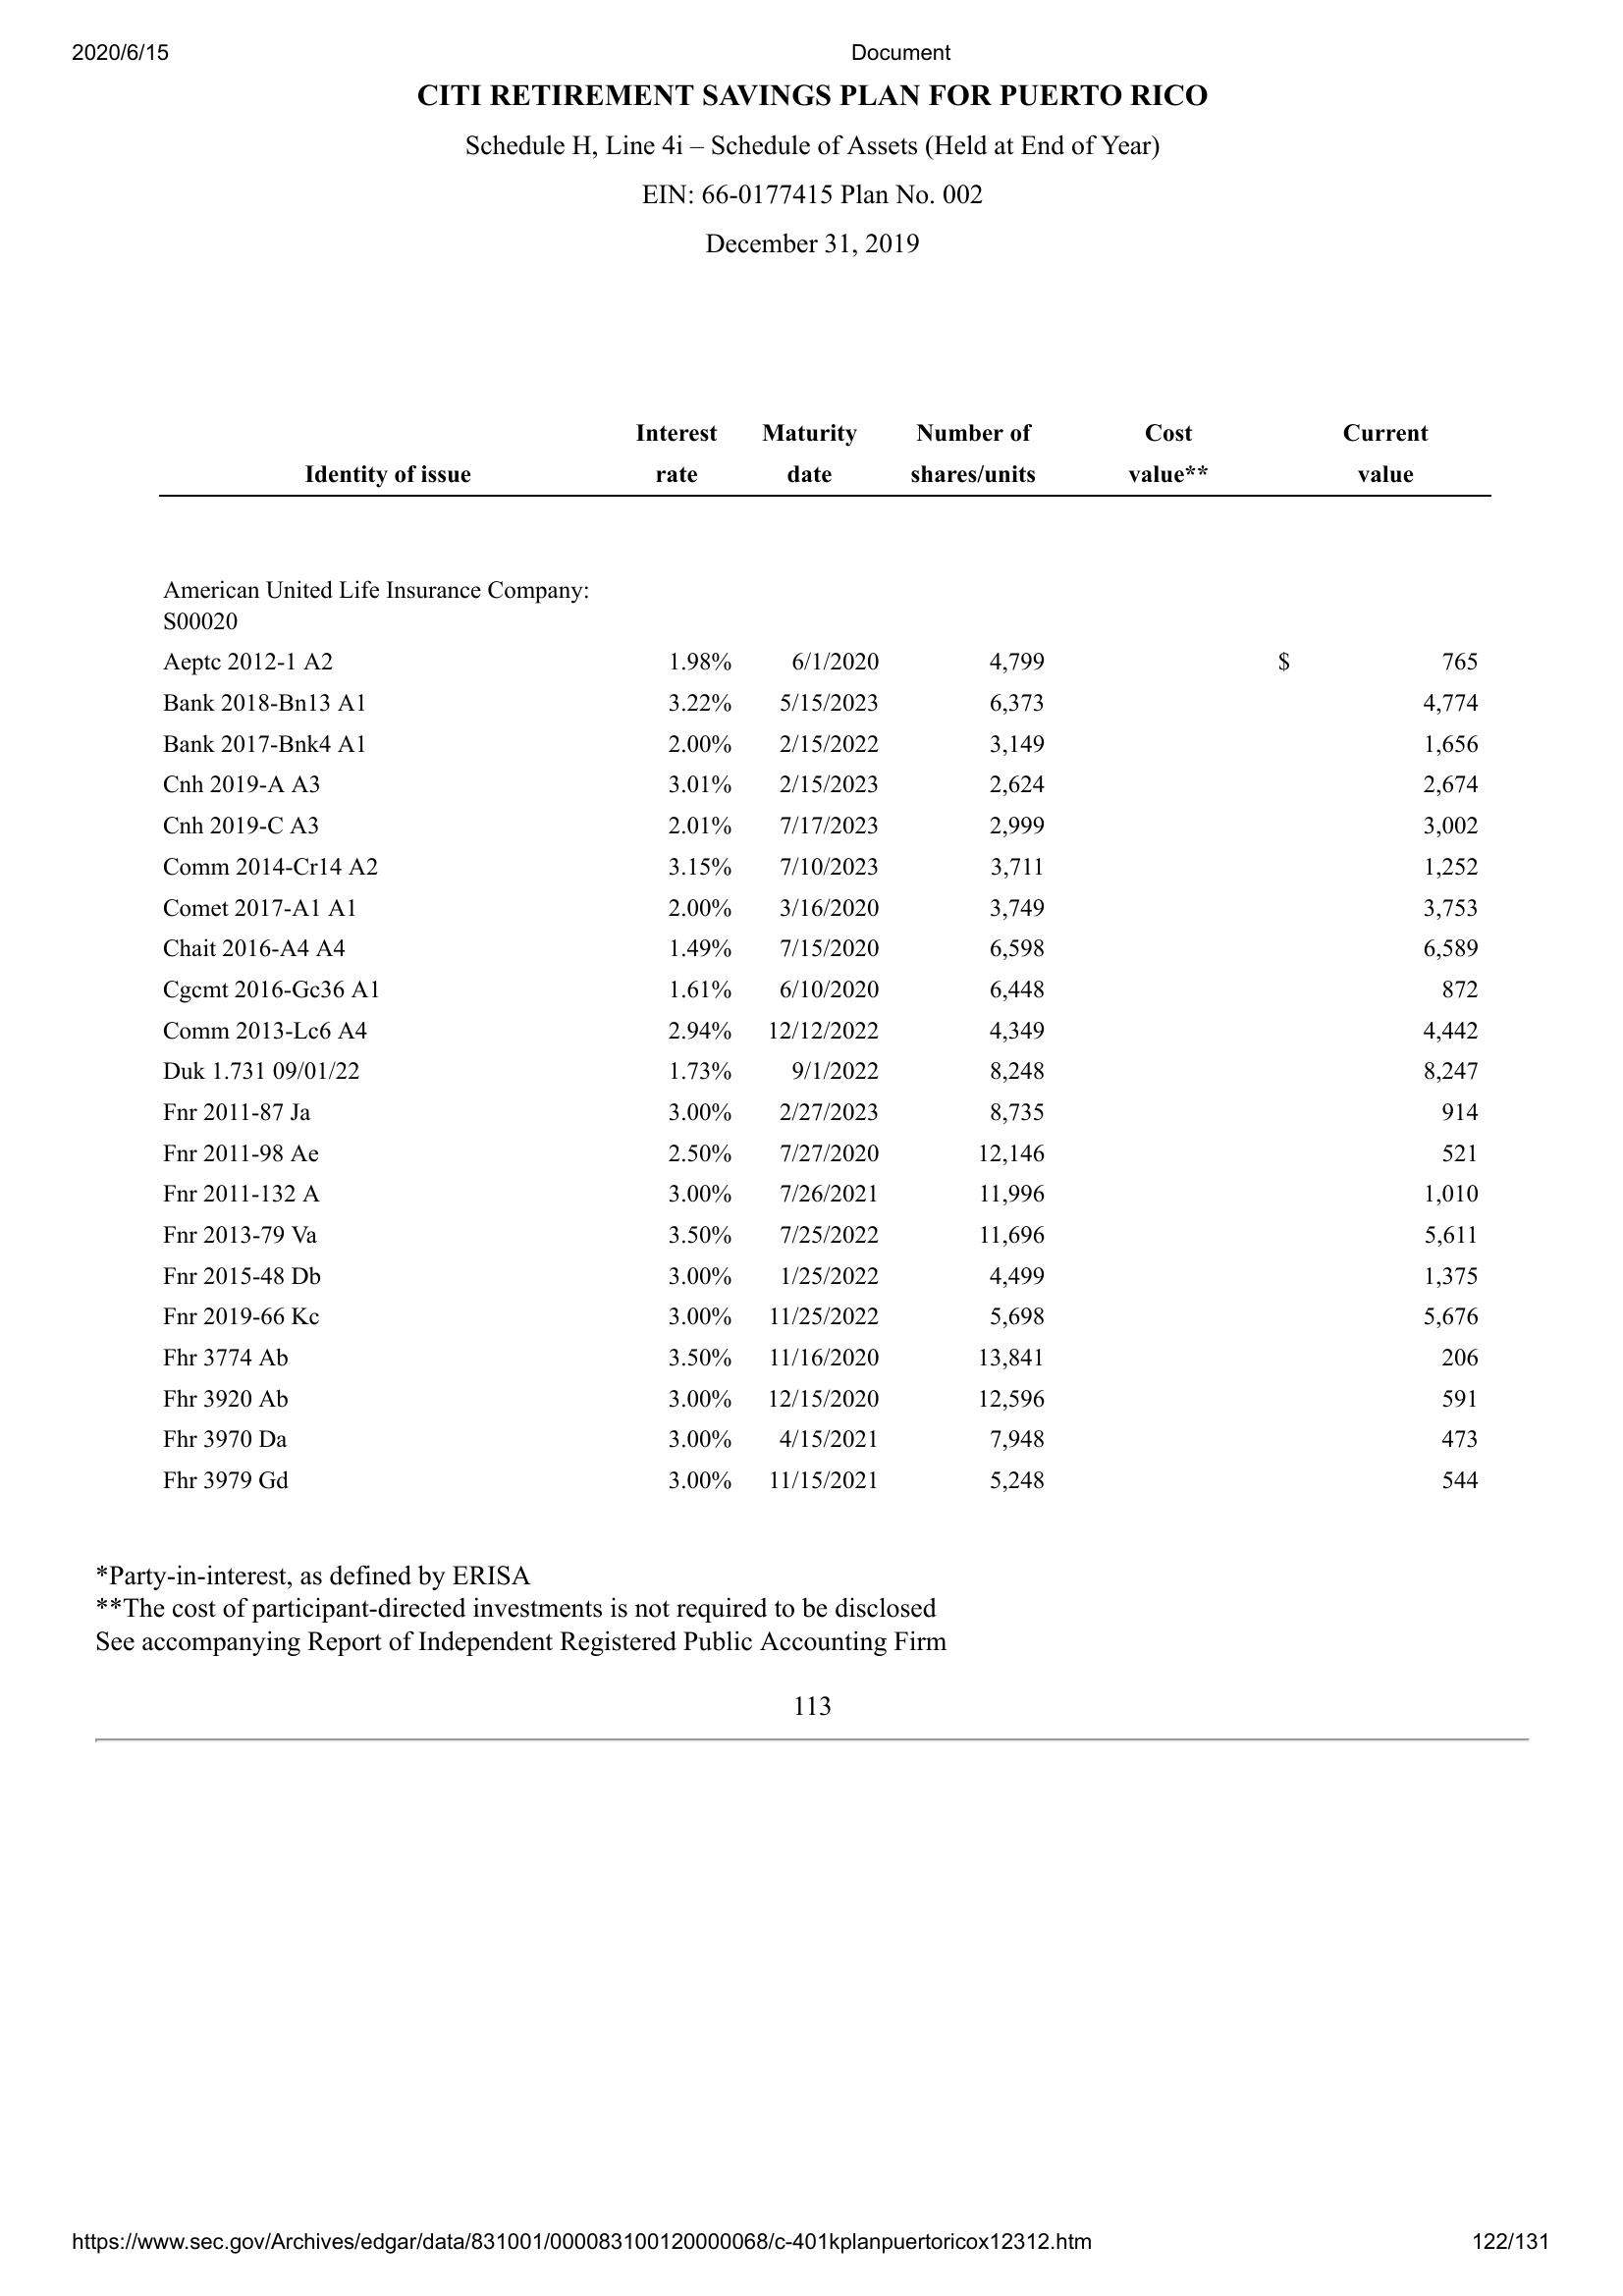table: (144, 421, 1490, 1511)
